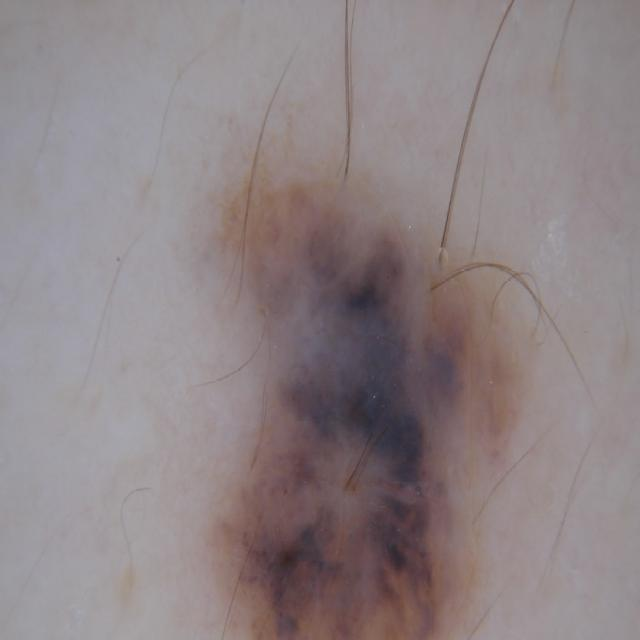Melanoma: (170, 138, 533, 640)
